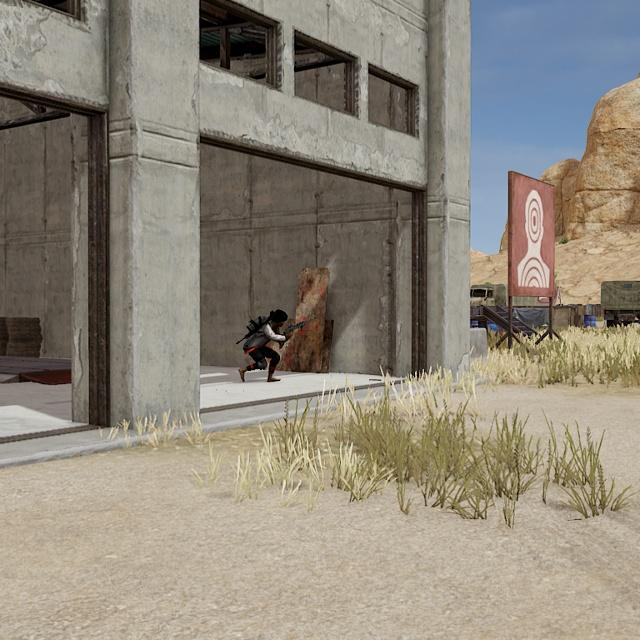head: (268, 307, 289, 329)
people: (237, 307, 291, 385)
